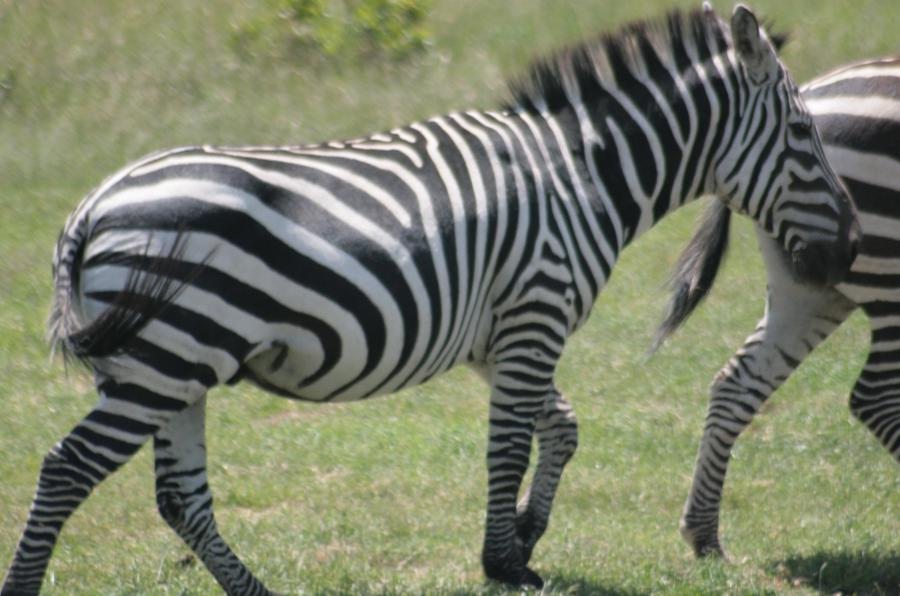zebra_plains: (98, 134, 594, 380)
